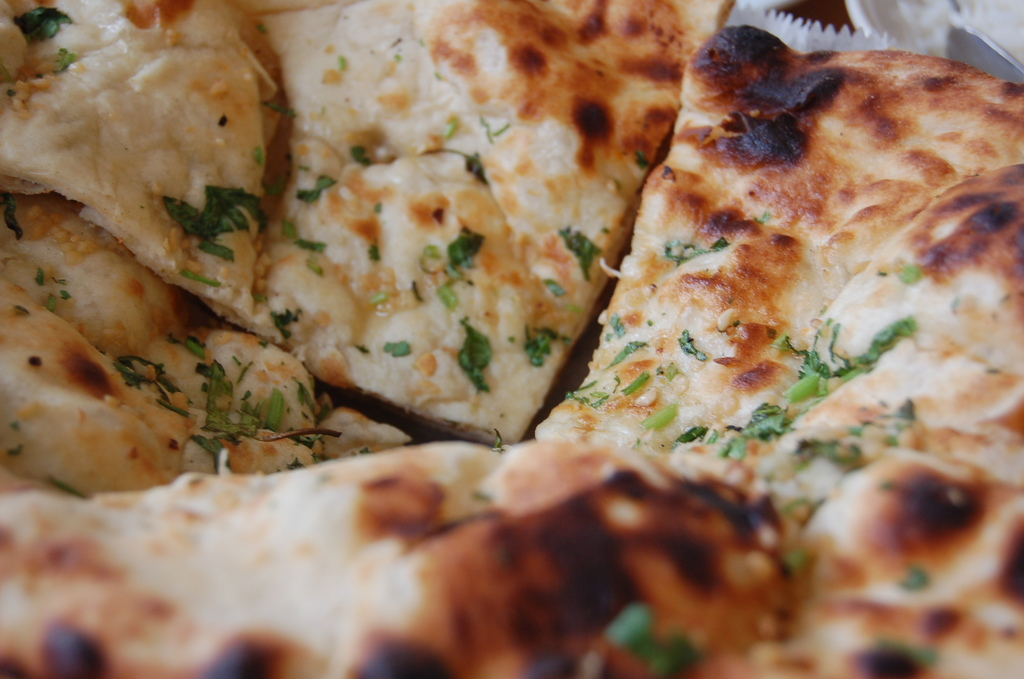Pizza: (19, 0, 945, 636)
